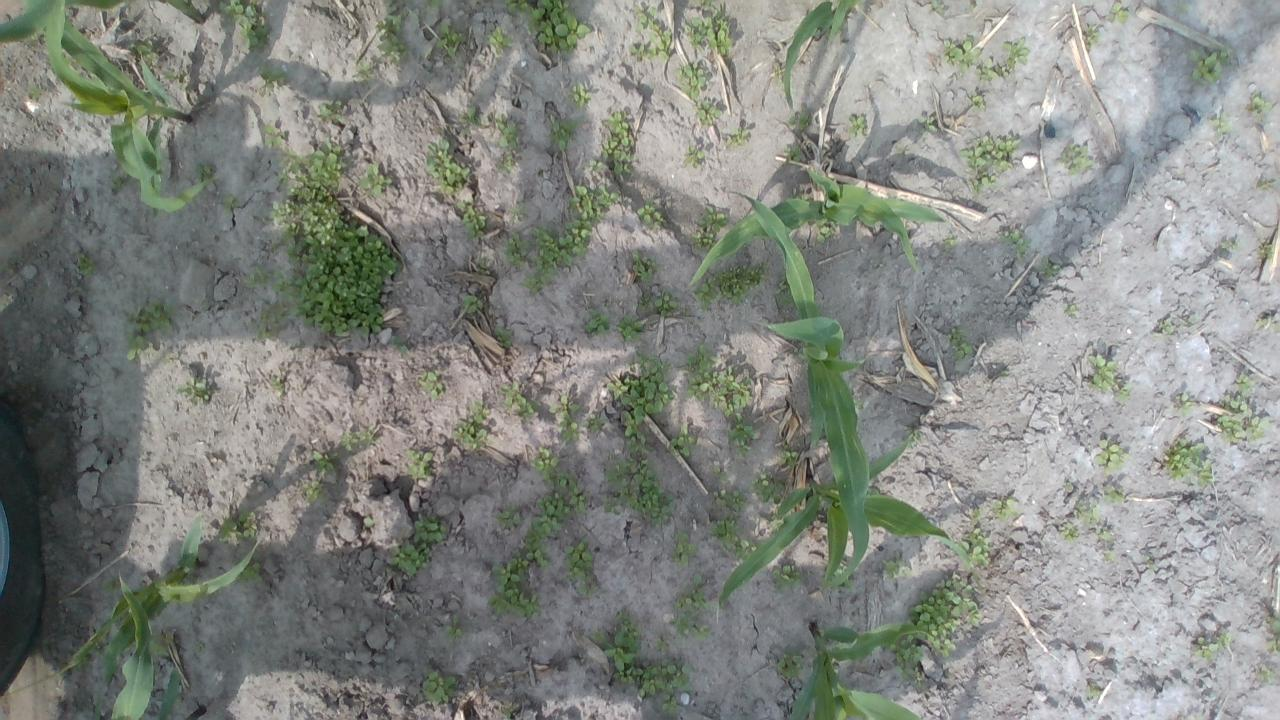Maize: (729, 187, 872, 588), (9, 524, 262, 720), (718, 434, 973, 604), (40, 0, 216, 215), (686, 162, 944, 272), (789, 617, 941, 720), (0, 0, 206, 44), (784, 0, 853, 109), (86, 660, 206, 720)
Weeds: (271, 142, 403, 340), (905, 573, 981, 659), (607, 351, 674, 436), (603, 454, 676, 528), (556, 182, 618, 266), (502, 0, 592, 56), (686, 342, 750, 418), (614, 659, 690, 715), (486, 556, 542, 621), (696, 262, 768, 312), (524, 494, 572, 569), (590, 609, 639, 673), (216, 0, 270, 51), (422, 140, 472, 194), (522, 224, 560, 294), (126, 302, 172, 359), (1216, 395, 1270, 443), (1166, 436, 1217, 486), (630, 6, 672, 66), (958, 135, 1022, 174), (710, 518, 764, 563), (600, 113, 636, 177), (564, 540, 602, 599), (682, 14, 736, 55), (454, 398, 494, 452), (669, 590, 712, 640), (890, 632, 924, 691), (1188, 44, 1232, 84), (690, 207, 728, 251), (374, 13, 406, 63), (499, 382, 542, 419), (218, 506, 258, 544), (554, 472, 590, 514), (496, 118, 522, 174), (257, 301, 289, 345), (421, 670, 459, 706), (1092, 438, 1128, 476), (944, 38, 980, 76), (392, 542, 432, 576), (960, 526, 990, 570), (674, 62, 711, 97), (457, 200, 488, 241), (1086, 352, 1117, 393), (638, 288, 682, 316), (750, 470, 784, 506), (727, 417, 759, 455), (668, 420, 698, 460), (999, 36, 1029, 76), (436, 20, 466, 58), (412, 514, 448, 545), (550, 116, 577, 156), (179, 373, 211, 406), (1062, 143, 1095, 175), (404, 448, 435, 482), (228, 553, 262, 583), (671, 531, 697, 569), (532, 446, 560, 481), (503, 231, 530, 267), (713, 486, 747, 514), (946, 326, 974, 360), (775, 651, 805, 682), (616, 314, 646, 344), (337, 428, 373, 453), (880, 550, 912, 578), (771, 564, 800, 594), (127, 38, 156, 68), (630, 251, 658, 282), (416, 369, 444, 400), (636, 200, 665, 229), (1000, 229, 1029, 258), (550, 393, 582, 419), (991, 493, 1019, 520), (258, 65, 288, 90), (488, 26, 513, 55), (584, 308, 610, 334), (196, 165, 222, 191), (568, 81, 592, 109), (497, 504, 522, 530), (311, 448, 336, 473), (245, 266, 271, 290), (318, 98, 342, 124), (970, 173, 1001, 193), (626, 436, 656, 456), (109, 173, 136, 195), (1076, 500, 1100, 524), (302, 478, 323, 505), (1177, 391, 1198, 418), (74, 250, 98, 273), (695, 102, 720, 124), (1107, 0, 1129, 25), (1100, 485, 1127, 505), (1194, 636, 1218, 658), (149, 636, 170, 660), (222, 194, 243, 218), (558, 417, 578, 442), (494, 326, 516, 348), (262, 124, 284, 146), (816, 218, 836, 242), (726, 126, 750, 146), (786, 111, 811, 130), (1212, 114, 1232, 137), (580, 414, 604, 433), (686, 144, 705, 168), (1058, 522, 1080, 542), (976, 62, 999, 81), (1086, 24, 1102, 50), (461, 110, 484, 128), (782, 145, 802, 165), (461, 294, 480, 315), (1041, 260, 1062, 279), (846, 114, 864, 136), (916, 116, 940, 132), (1255, 316, 1280, 331), (269, 374, 286, 396), (782, 450, 801, 469), (26, 81, 42, 103), (354, 61, 372, 80), (768, 510, 784, 531), (1140, 554, 1158, 572), (906, 428, 922, 448), (1159, 318, 1175, 338), (102, 577, 122, 593), (1252, 95, 1272, 111), (445, 624, 462, 642), (509, 202, 528, 218), (1234, 374, 1250, 393), (162, 68, 182, 82), (392, 336, 408, 353), (971, 94, 985, 113), (1094, 526, 1110, 542), (1086, 684, 1102, 700), (944, 234, 957, 253), (712, 466, 728, 481), (1259, 668, 1274, 684), (1116, 384, 1130, 401), (1256, 179, 1274, 192), (192, 640, 206, 656), (1219, 632, 1232, 649), (1264, 639, 1280, 652), (1267, 616, 1280, 632), (691, 574, 703, 591), (76, 656, 90, 670), (1262, 244, 1276, 258), (588, 160, 604, 172), (1064, 304, 1078, 317), (1104, 550, 1118, 563), (930, 0, 944, 13), (504, 705, 516, 720), (852, 397, 865, 410), (791, 193, 809, 202), (656, 638, 666, 654), (973, 507, 985, 520), (830, 659, 840, 674), (364, 516, 376, 528), (1226, 241, 1238, 251), (432, 0, 442, 10), (1000, 368, 1009, 379)
